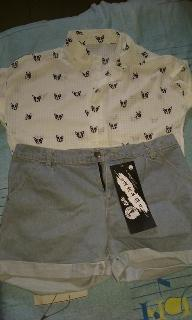short sleeve top: (0, 29, 192, 223)
shorts: (0, 134, 192, 295)
